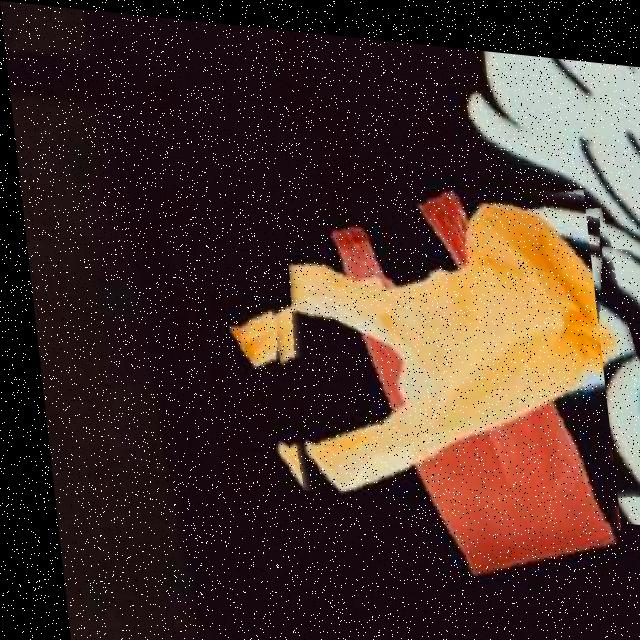plasticcover: (239, 147, 621, 638), (192, 179, 640, 514)
